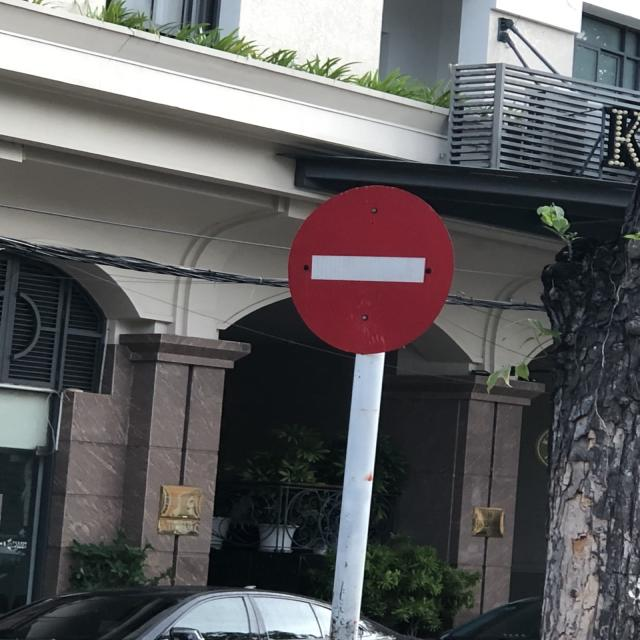Bien bao cam di nguoc chieu: (278, 174, 472, 360)
